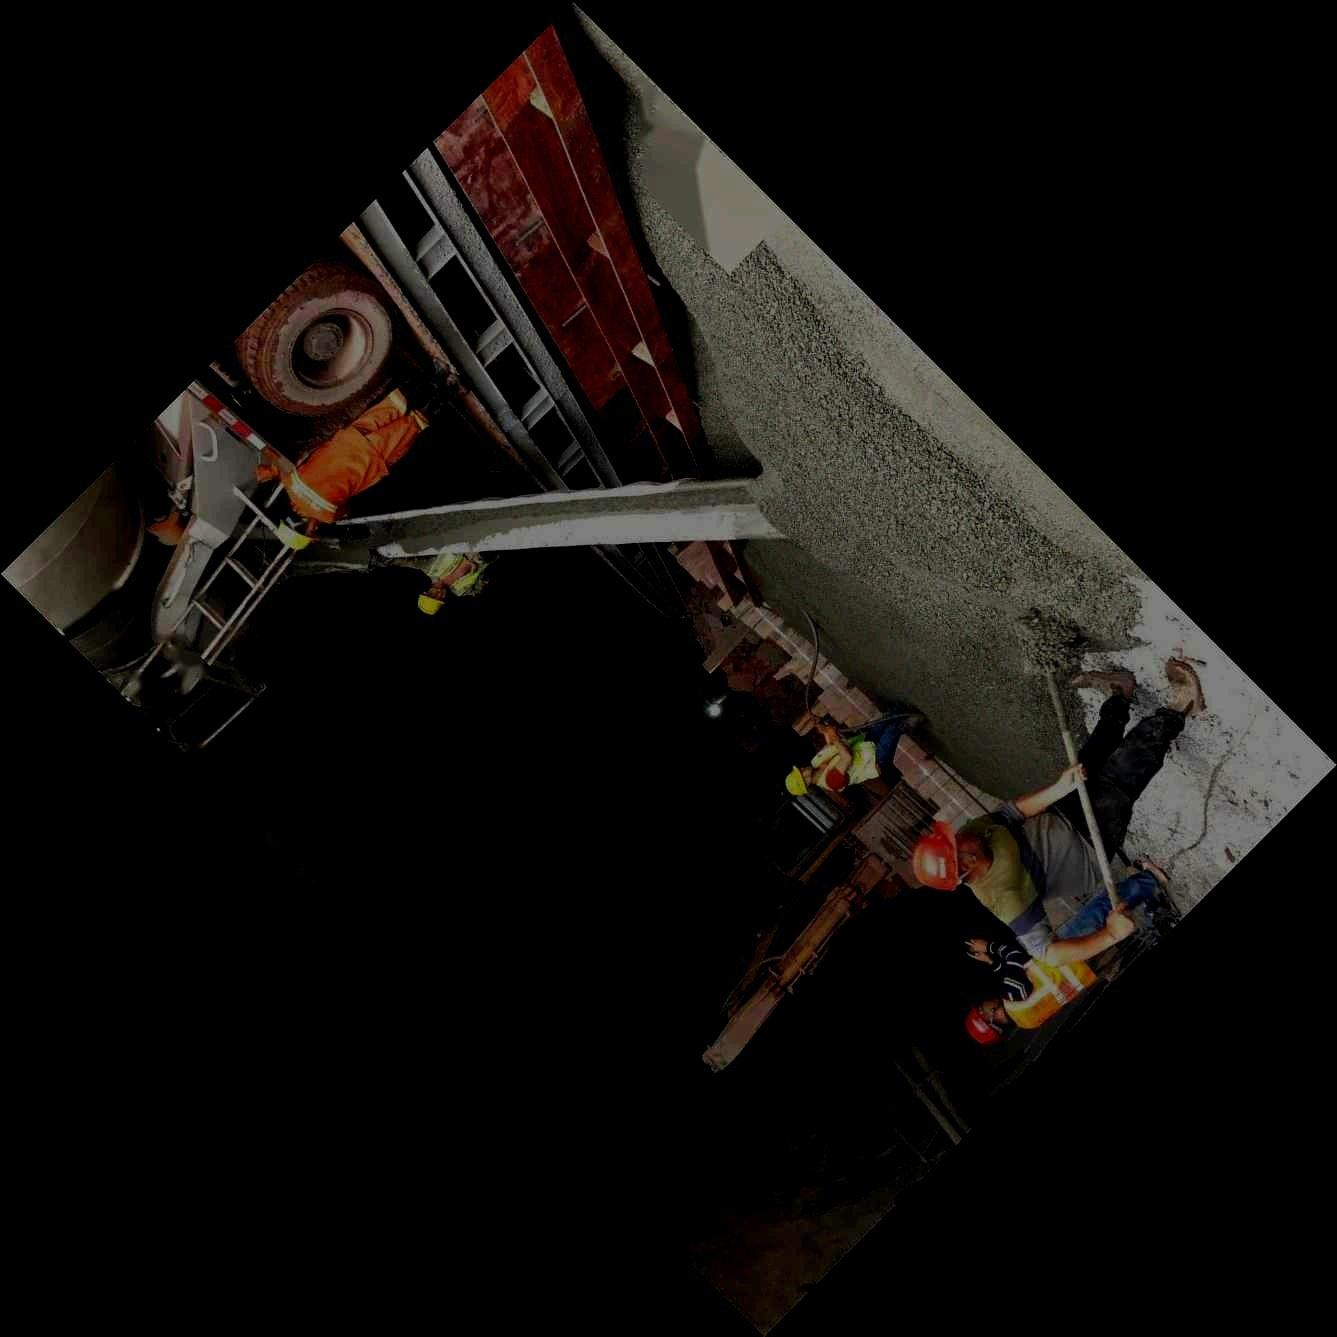helmet: (910, 818, 986, 891), (964, 998, 1010, 1044), (275, 509, 320, 551), (418, 580, 446, 615), (785, 765, 815, 796)
